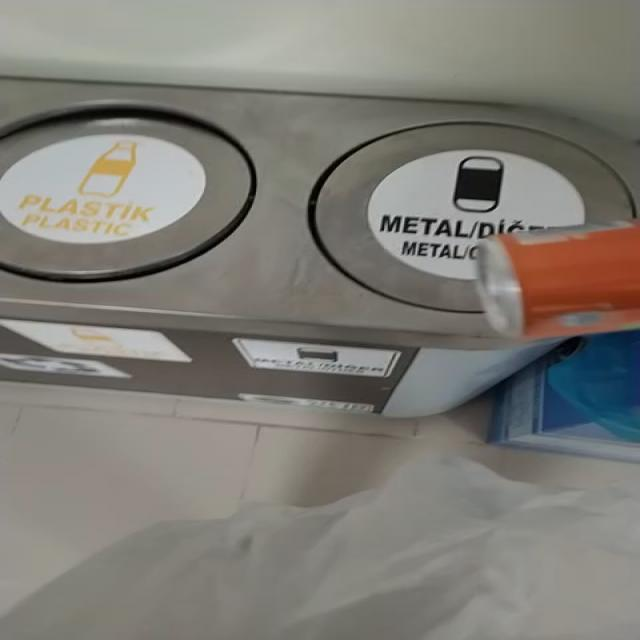bin: (0, 77, 639, 416)
metal: (479, 221, 640, 338)
